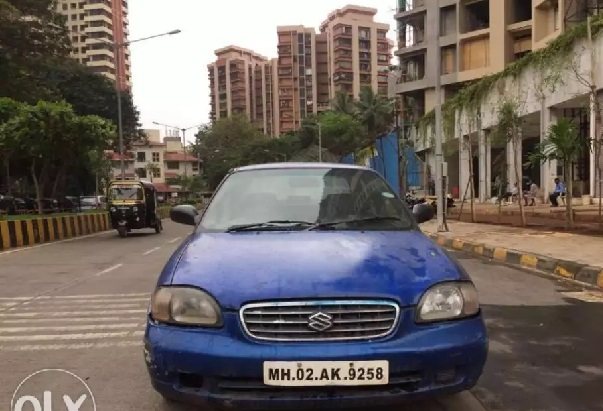licenseplate: (259, 357, 391, 389)
